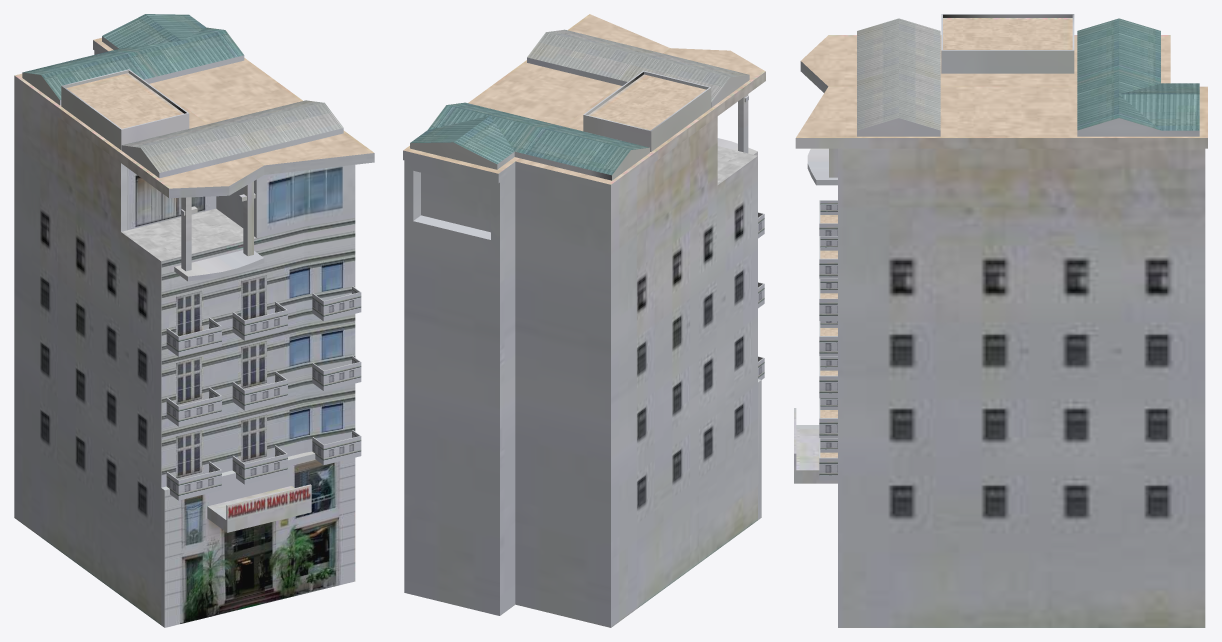
3 views of the same model, side by side, from view 1: azimuth 30°, elevation 25°; view 2: azimuth 150°, elevation 25°; view 3: azimuth 270°, elevation 25° (orthographic). The views are drawn at different scales.
Visible parts, largest first — view 1: HN389_Medallion_Hanoi; view 2: HN389_Medallion_Hanoi; view 3: HN389_Medallion_Hanoi.
Boxes of the visible parts, left/top/right/bottom form: HN389_Medallion_Hanoi: left=14, top=14, right=374, bottom=627; HN389_Medallion_Hanoi: left=403, top=14, right=765, bottom=627; HN389_Medallion_Hanoi: left=794, top=14, right=1207, bottom=627.
Size of the model in its own units: 10.14 by 23.53 by 17.21.
Materials: 1 (1 with a texture image).
